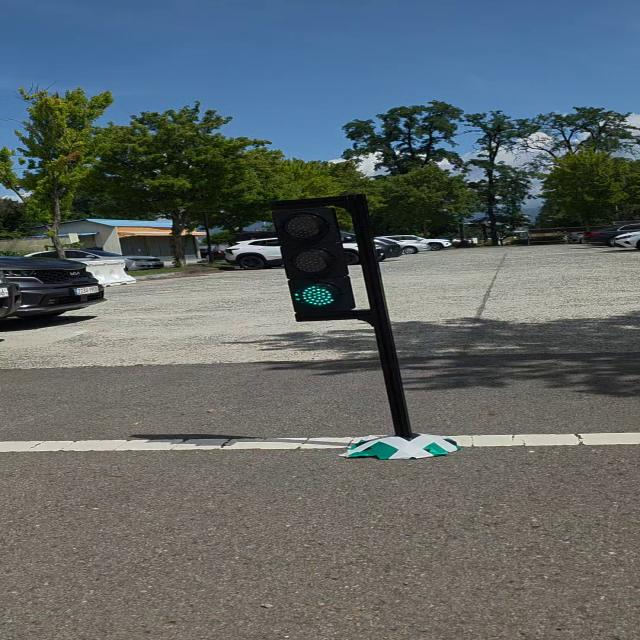green: (273, 200, 354, 320)
